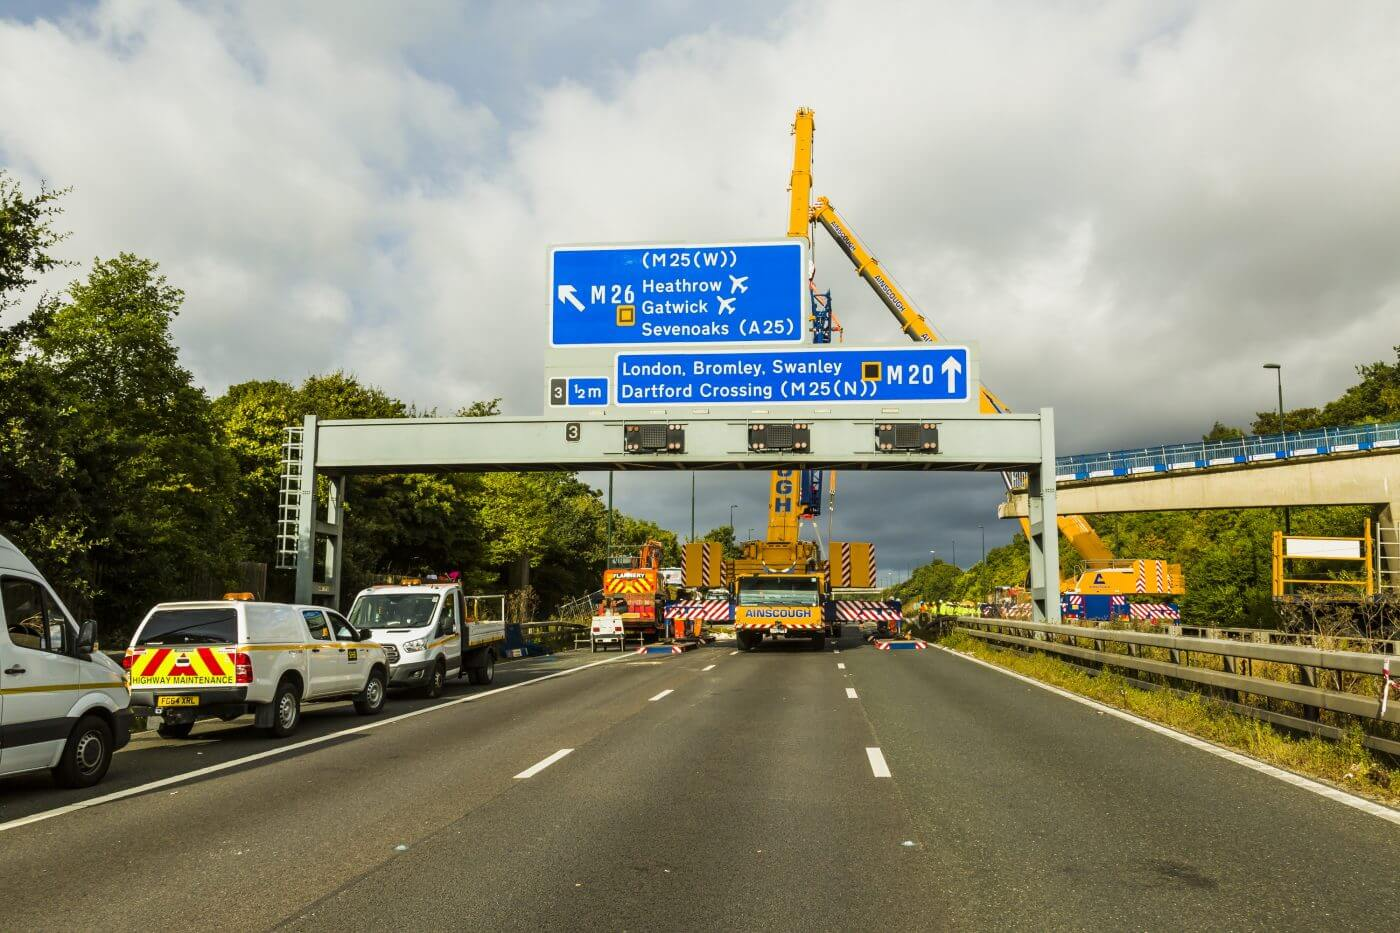bridge: (290, 403, 1057, 469)
